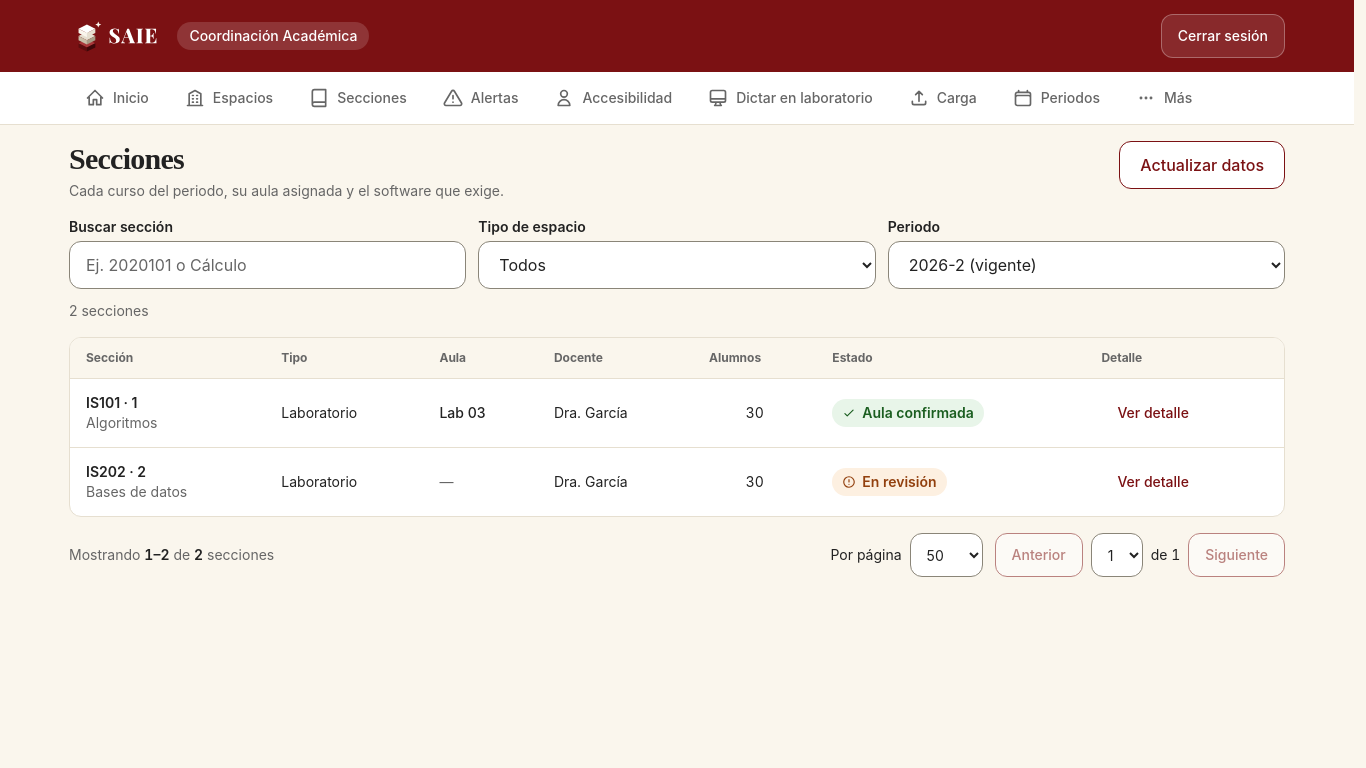
Scenario: Gestión individual de secciones (Issue 4.31) › avisa cuando el cambio genera alertas en el panel
Click the button named "Ver detalle de IS101 1": (1153, 413) [1101,391,1205,435]
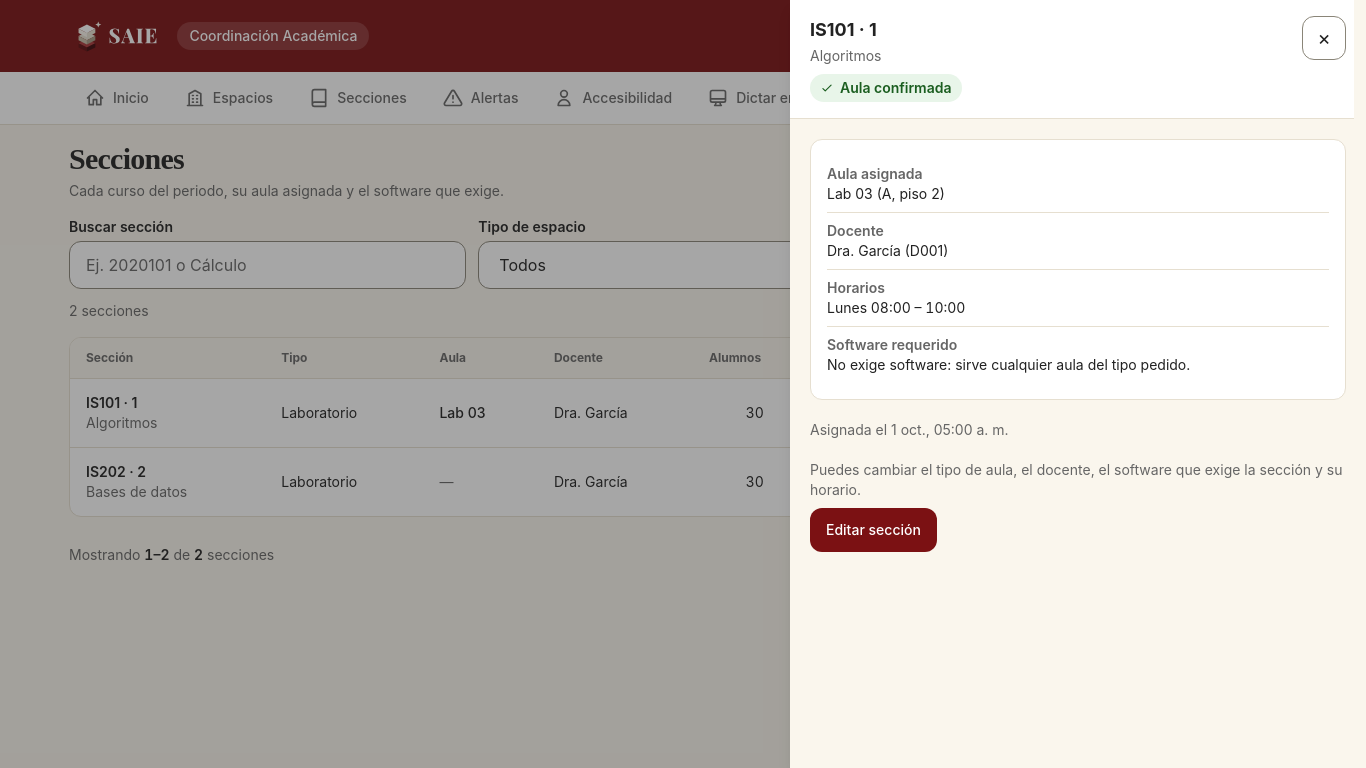
Click the button "Editar sección": (873, 530) [810,508,937,552]
(page scrolled)
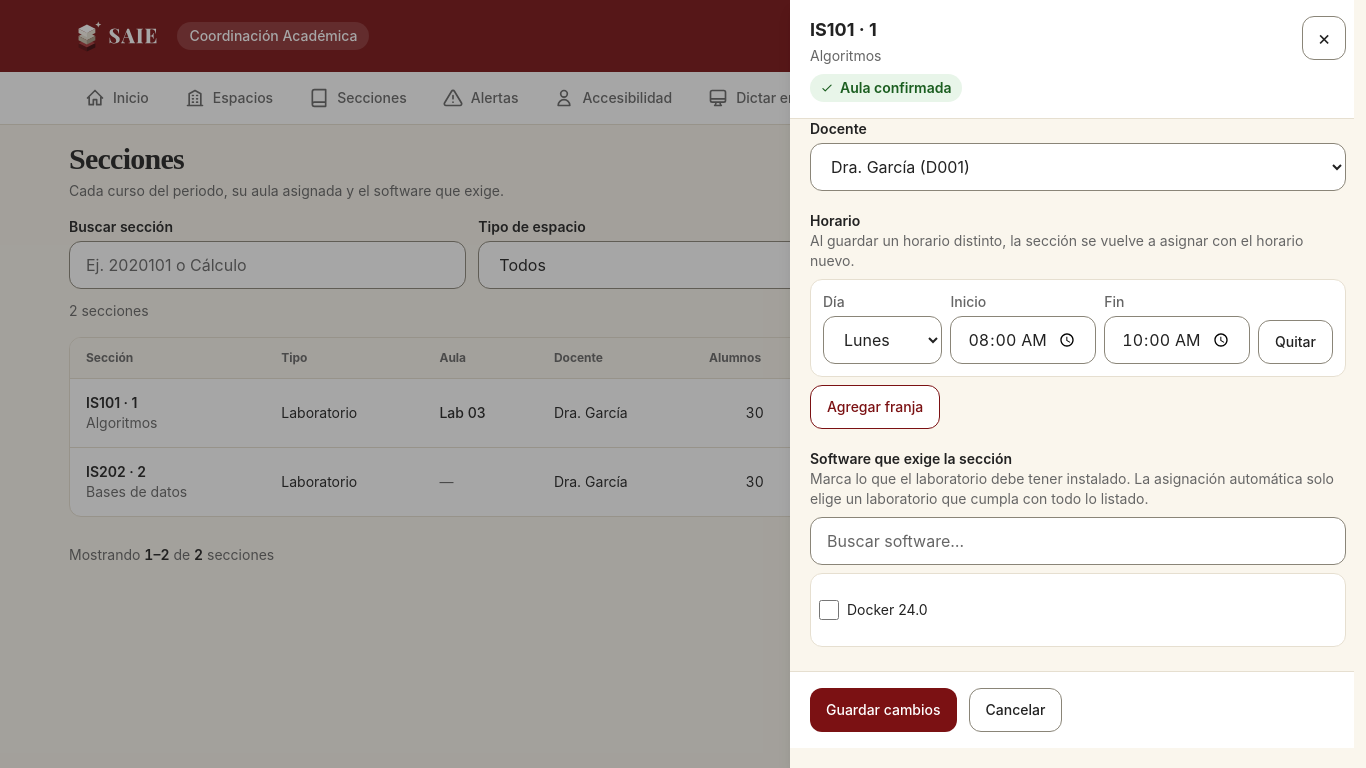
Click the checkbox labelled "Docker 24.0": (829, 610) [819,600,839,620]
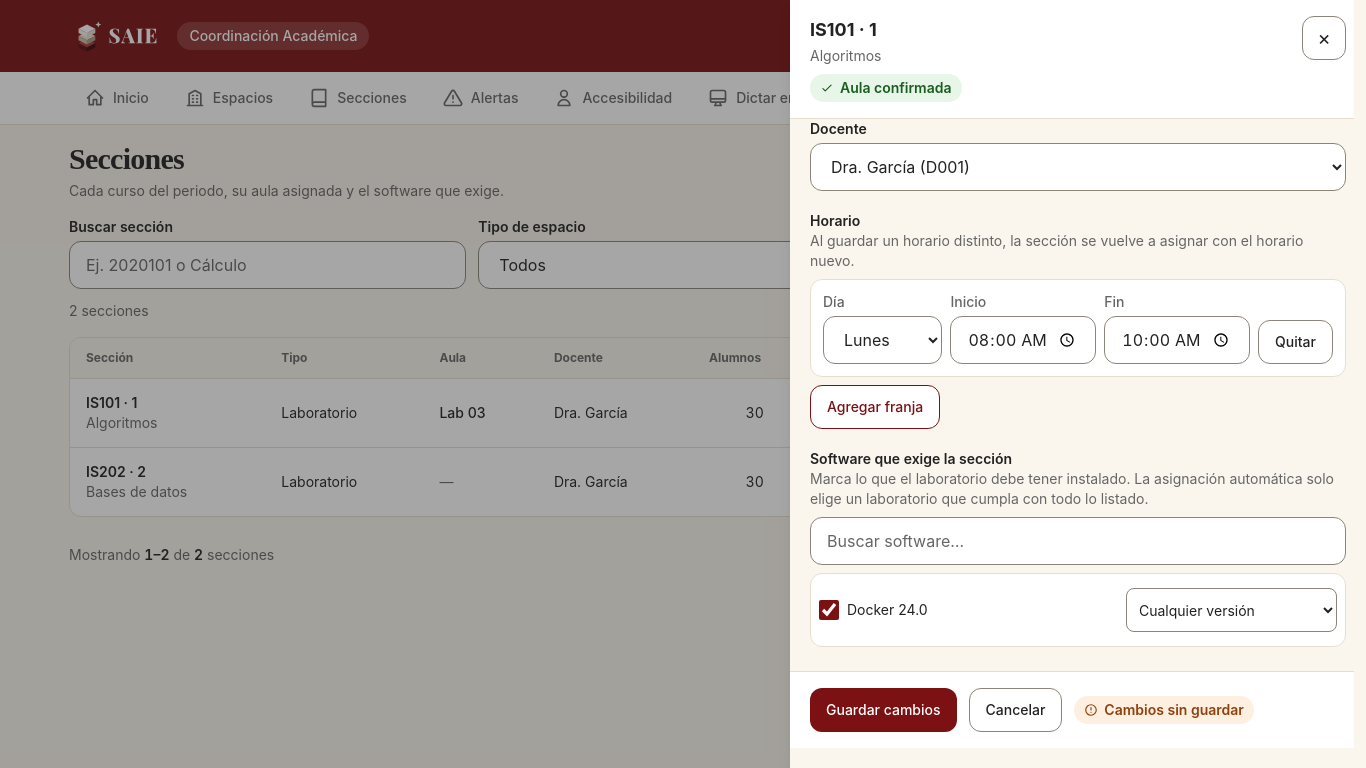
Click the button "Guardar cambios": (883, 710) [810,688,956,732]
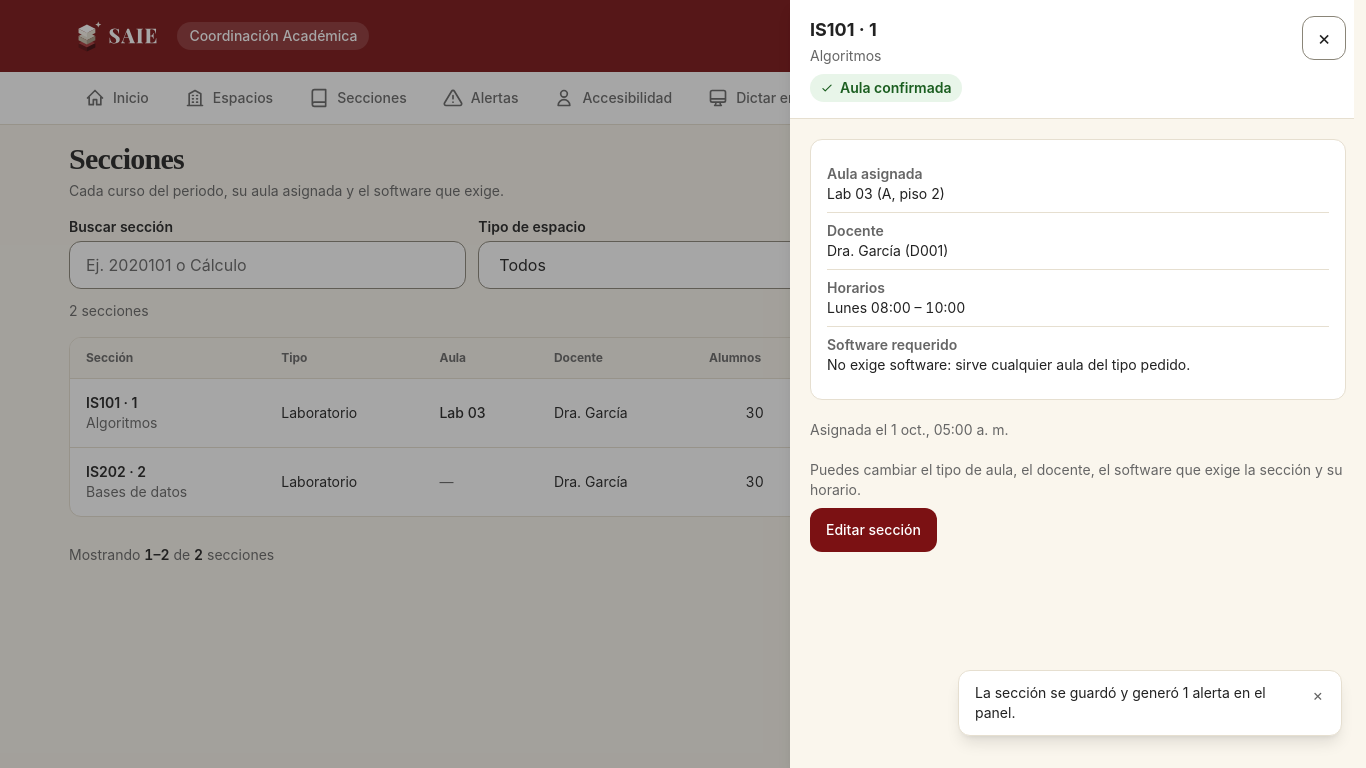
Expected: the text "La sección se guardó y generó 1 alerta en el panel." is shown, [975,683,1294,723]
